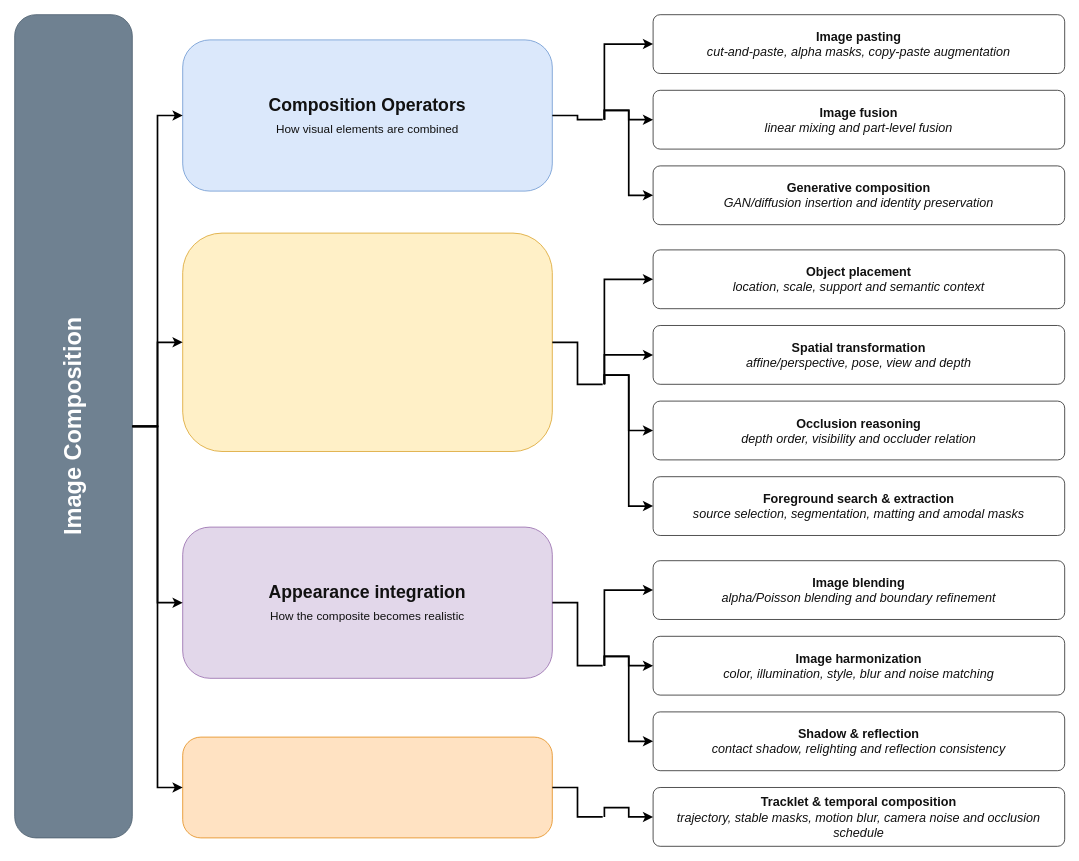
This 1079x861 diagram has some shape labels left out. Each missing label, with the centre of its shape:
"Spatial and Semantic Reasoning Where and how the object fits" belongs at [367,342].
"Video extension Composition across frames" belongs at [367,787].
